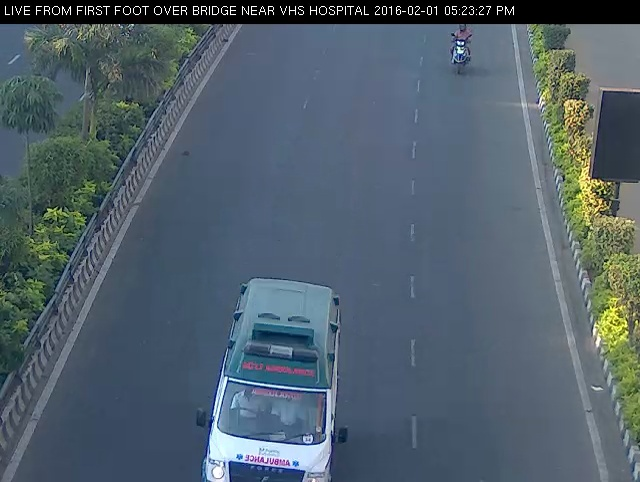Bus: (186, 262, 354, 482)
Person: (446, 18, 475, 83)
